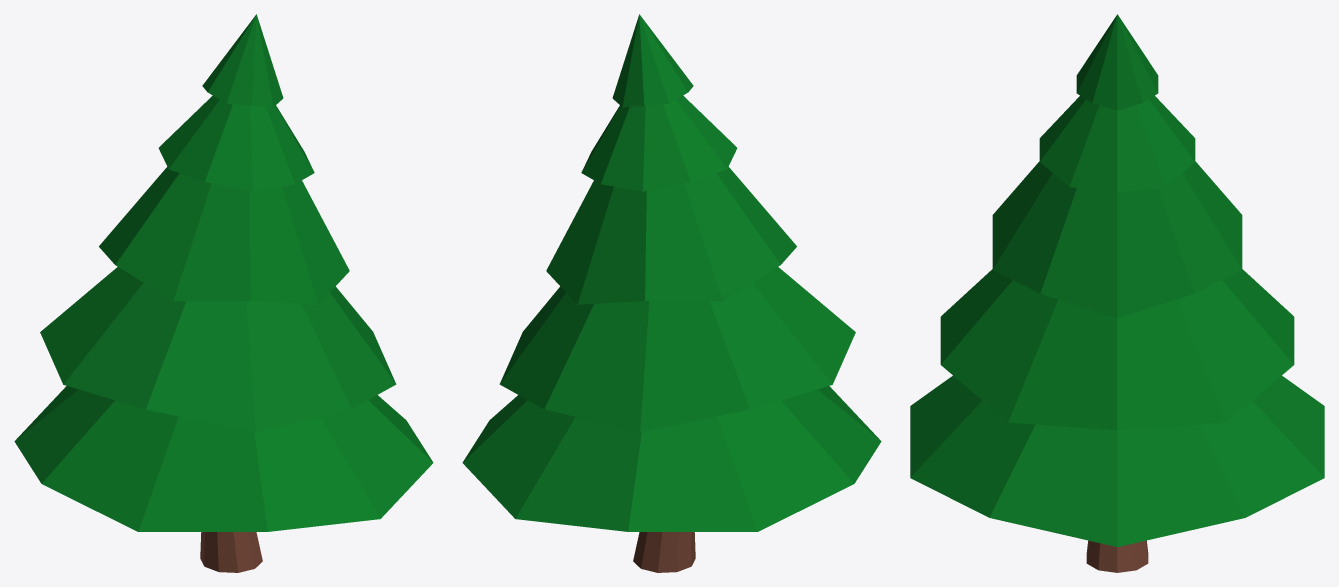
Rendered from Pine_02.fbx.
The picture shows the model from 3 angles, left to right: view 1: azimuth 30°, elevation 25°; view 2: azimuth 150°, elevation 25°; view 3: azimuth 270°, elevation 25°; orthographic projection. The views are drawn at different scales.
Parts seen in each view (by area): view 1: Pine_Tree_02; view 2: Pine_Tree_02; view 3: Pine_Tree_02.
Boxes of the visible parts, x1=… form: Pine_Tree_02: x1=14, y1=14, x2=433, y2=572; Pine_Tree_02: x1=462, y1=14, x2=881, y2=572; Pine_Tree_02: x1=910, y1=14, x2=1324, y2=572.
Size of the model in its own units: 1.32 by 1.87 by 1.26.
1 material, 1 textured.
